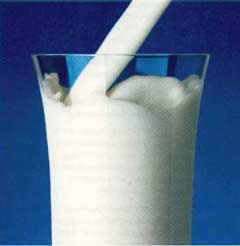glass of milk: (40, 52, 190, 246)
